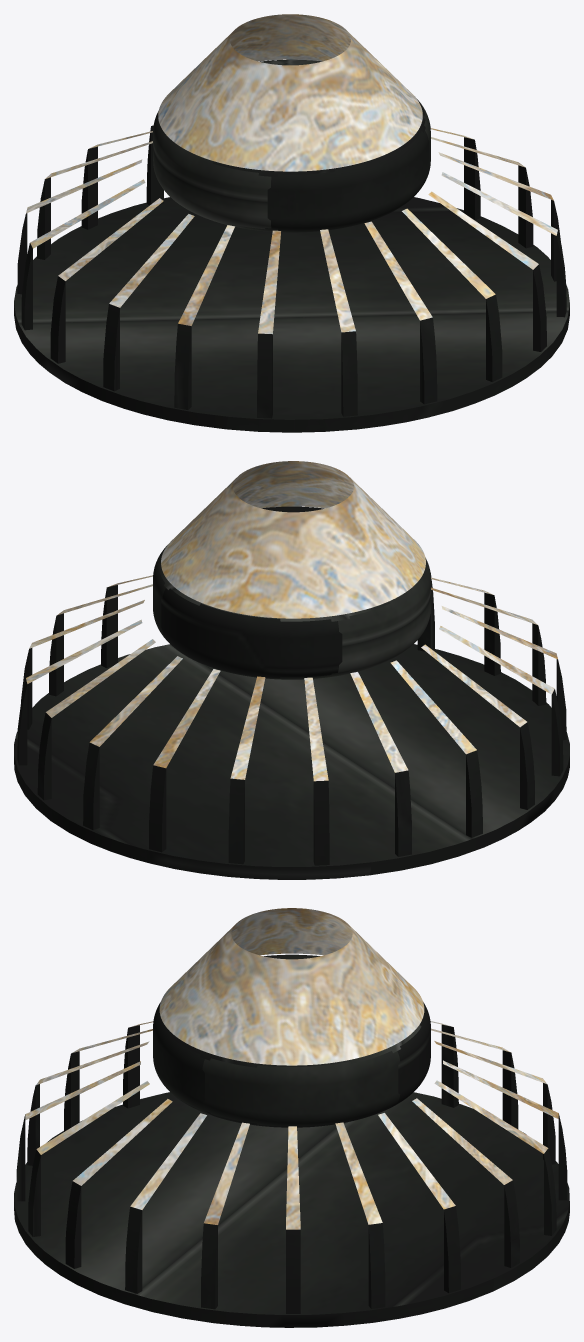
File: uv_focus.obj
3 views of the same model, one above another, from view 1: azimuth 30°, elevation 25°; view 2: azimuth 150°, elevation 25°; view 3: azimuth 270°, elevation 25° (orthographic).
Parts seen in each view (by area): view 1: focus.001; view 2: focus.001; view 3: focus.001.
Part boxes in pixels (x1=…): focus.001: x1=14, y1=14, x2=569, y2=432; focus.001: x1=14, y1=461, x2=569, y2=879; focus.001: x1=14, y1=908, x2=569, y2=1327.
Size of the model in its own units: 1.81 by 0.9918 by 1.81.
